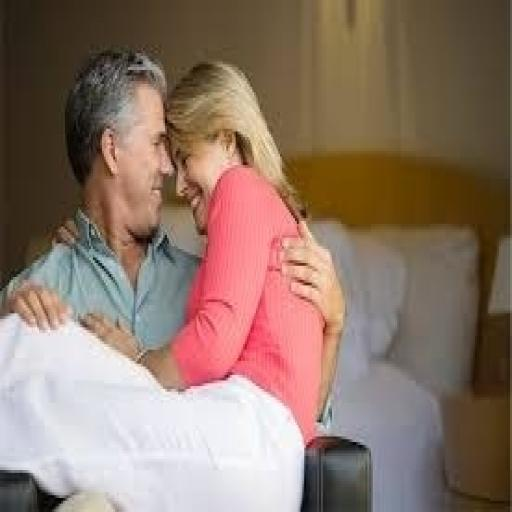hugging: (2, 45, 349, 509)
